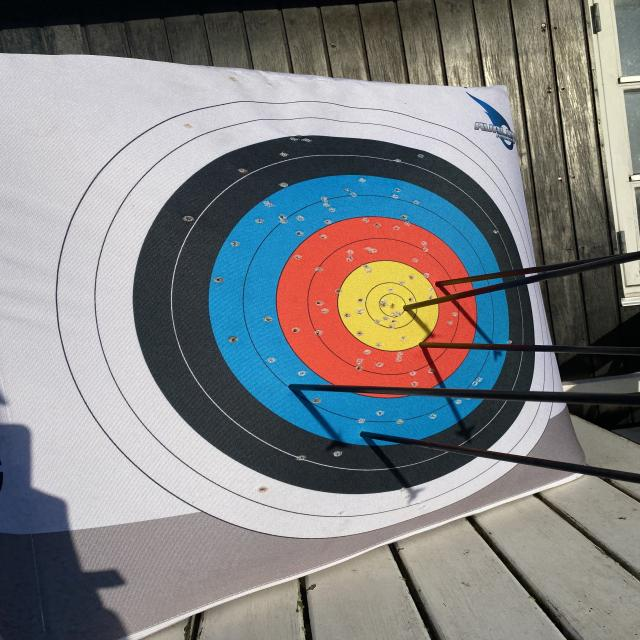Arrow_Blue: (275, 369, 309, 403), (353, 418, 381, 447)
Arrow_Red: (416, 330, 444, 367), (432, 268, 451, 297)
Arrow_Yellow: (394, 293, 430, 319)
